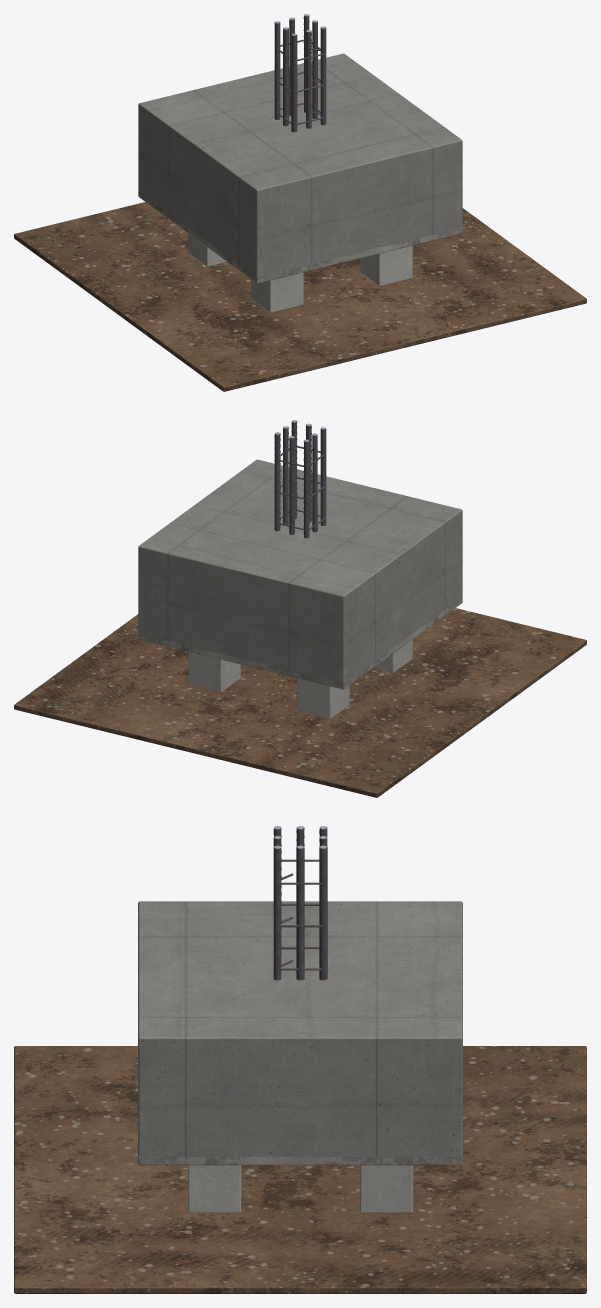
File: chi-tiet-coc-mong.glb
The picture shows the model from 3 angles, top to bottom: view 1: azimuth 30°, elevation 25°; view 2: azimuth 150°, elevation 25°; view 3: azimuth 270°, elevation 25°; orthographic projection. The views are drawn at different scales.
Visible parts, largest first — view 1: step4_31, Base, step1_4, step0_2, step0_3, step3_21, step3_22, step3_19, step0_0, step3_24, step3_25, step3_26; view 2: step4_31, Base, step1_4, step0_0, step0_1, step3_20, step3_21, step3_19, step0_2, step3_23, step3_26, step3_25; view 3: Base, step4_31, step1_4, step0_1, step0_3, step3_20, step3_22, step3_26.
Part boxes in pixels (x1,y1,x2,y2): step4_31: [138, 53, 462, 277]; Base: [14, 202, 586, 391]; step1_4: [138, 190, 462, 283]; step0_2: [251, 272, 303, 312]; step0_3: [360, 245, 412, 286]; step3_21: [291, 33, 297, 132]; step3_22: [320, 26, 326, 125]; step3_19: [274, 21, 280, 119]; step0_0: [188, 233, 227, 266]; step3_24: [306, 30, 311, 128]; step3_25: [283, 27, 288, 126]; step3_26: [312, 20, 317, 118]; step4_31: [138, 459, 462, 682]; Base: [14, 608, 586, 797]; step1_4: [138, 596, 462, 689]; step0_0: [297, 678, 349, 718]; step0_1: [188, 652, 240, 692]; step3_20: [274, 432, 280, 531]; step3_21: [320, 427, 326, 525]; step3_19: [303, 439, 309, 538]; step0_2: [373, 639, 412, 672]; step3_23: [289, 436, 294, 534]; step3_26: [283, 426, 288, 524]; step3_25: [312, 433, 317, 532]; Base: [14, 1046, 586, 1293]; step4_31: [138, 901, 462, 1156]; step1_4: [138, 1155, 462, 1165]; step0_1: [359, 1165, 413, 1213]; step0_3: [187, 1165, 241, 1213]; step3_20: [319, 845, 327, 980]; step3_22: [273, 845, 281, 980]; step3_26: [296, 845, 304, 980].
Size of the model in its own units: 3 by 1.94 by 3.
9 materials, 9 textured.
